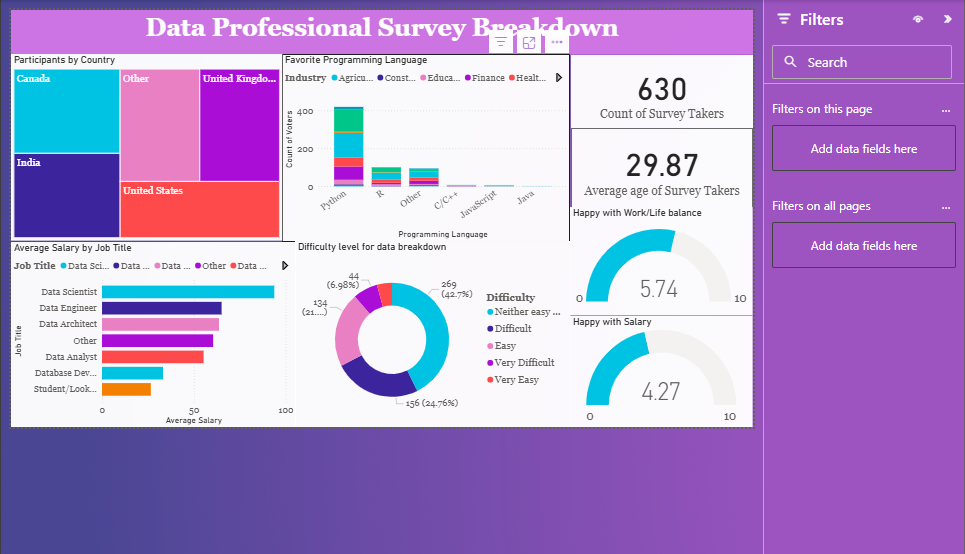

What the dashboard file says about the page in this screenshot:
{"tool":"powerbi","page":{"name":"Page 1","canvas":[1280,720],"ordinal":0},"visuals":[{"type":"textbox","box":[0,0,1280,77.3],"z":0},{"type":"card","fields":{"Values":["CountNonNull(Data Professional Survey.Unique ID)"]},"box":[965.9,77.3,314.1,126],"z":1000},{"type":"card","fields":{"Values":["Avg(Data Professional Survey.Q10 - Current Age)"]},"box":[965.9,203.3,314.1,137.7],"z":2000},{"type":"barChart","title":"Average Salary by Job Title","fields":{"Category":["Data Professional Survey.Q1 - Which Title Best Fits your Current Role?.1"],"Y":["Avg(Data Professional Survey.Average Salary)"],"Series":["Data Professional Survey.Q1 - Which Title Best Fits your Current Role?.1"]},"box":[0,400,491.9,320],"z":3000},{"type":"columnChart","title":"Favorite Programming Language","fields":{"Category":["Data Professional Survey.Q5 - Favorite Programming Language.1"],"Y":["CountNonNull(Data Professional Survey.Unique ID)"],"Series":["Data Professional Survey.Q4 - What Industry do you work in?.1"]},"box":[468.1,76.6,497,323.4],"z":4000},{"type":"treemap","title":"Participants by Country","fields":{"Group":["Data Professional Survey.Q11 - Which Country do you live in?.1"],"Values":["Count(Data Professional Survey.Q11 - Which Country do you live in?.1)"]},"box":[0,76.6,468.1,321.7],"z":5000},{"type":"gauge","title":"Happy with Work/Life balance","fields":{"Y":["Avg(Data Professional Survey.Q6 - How Happy are you in your Current Position with the following? (Work/Life Balance))"],"MinValue":["Min(Data Professional Survey.Q6 - How Happy are you in your Current Position with the following? (Work/Life Balance))"],"MaxValue":["Max(Data Professional Survey.Q6 - How Happy are you in your Current Position with the following? (Work/Life Balance))"]},"box":[965.1,340.4,314.9,187.2],"z":6000},{"type":"gauge","title":"Happy with Salary","fields":{"Y":["Avg(Data Professional Survey.Q6 - How Happy are you in your Current Position with the following? (Salary))"],"MinValue":["Min(Data Professional Survey.Q6 - How Happy are you in your Current Position with the following? (Salary))1"],"MaxValue":["Max(Data Professional Survey.Q6 - How Happy are you in your Current Position with the following? (Salary))2"]},"box":[965.1,527.7,314.9,192.3],"z":7000},{"type":"donutChart","title":"Difficulty level for data breakdown","fields":{"Category":["Data Professional Survey.Q7 - How difficult was it for you to break into Data?"],"Y":["CountNonNull(Data Professional Survey.Q7 - How difficult was it for you to break into Data?)"],"Series":["Data Professional Survey.Q7 - How difficult was it for you to break into Data?"]},"box":[490.2,398.3,474.9,321.7],"z":8000}]}

Visuals, with their boxes on the page's 1280x720 design canvas (x1, y1, x2, y2). These are canvas units, not pixel positions in the 965x554 screenshot, which may show the page scaled, cropped or inside an application window:
textbox: 0:0:1280:77
card - CountNonNull(Data Professional Survey.Unique ID): 966:77:1280:203
card - Avg(Data Professional Survey.Q10 - Current Age): 966:203:1280:341
"Average Salary by Job Title" barChart: 0:400:492:720
"Favorite Programming Language" columnChart: 468:77:965:400
"Participants by Country" treemap: 0:77:468:398
"Happy with Work/Life balance" gauge: 965:340:1280:528
"Happy with Salary" gauge: 965:528:1280:720
"Difficulty level for data breakdown" donutChart: 490:398:965:720
